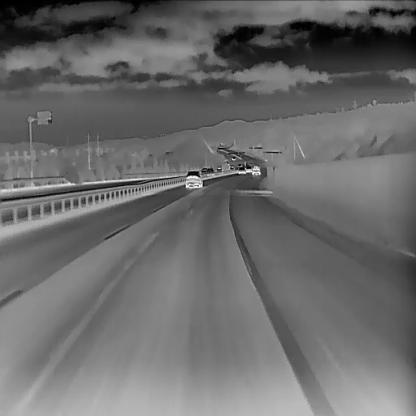car: (184, 170, 202, 188), (251, 165, 261, 175), (206, 167, 215, 177), (245, 164, 253, 173), (200, 167, 208, 175), (237, 166, 245, 174)
